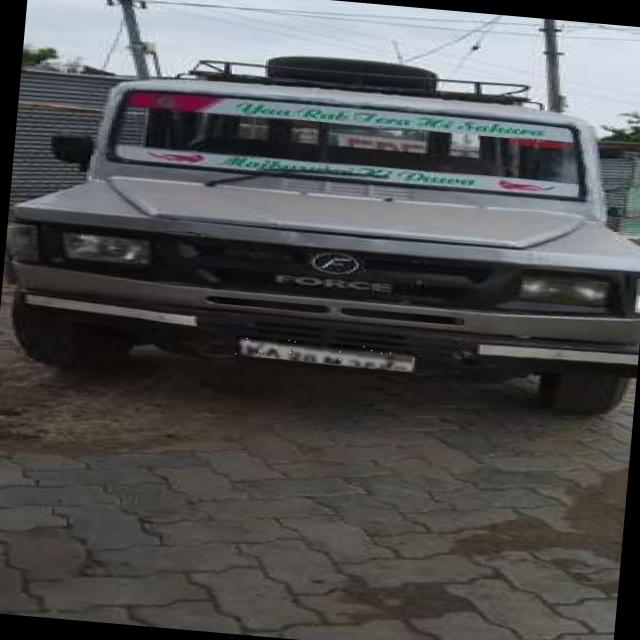Plate: (236, 336, 414, 371)
